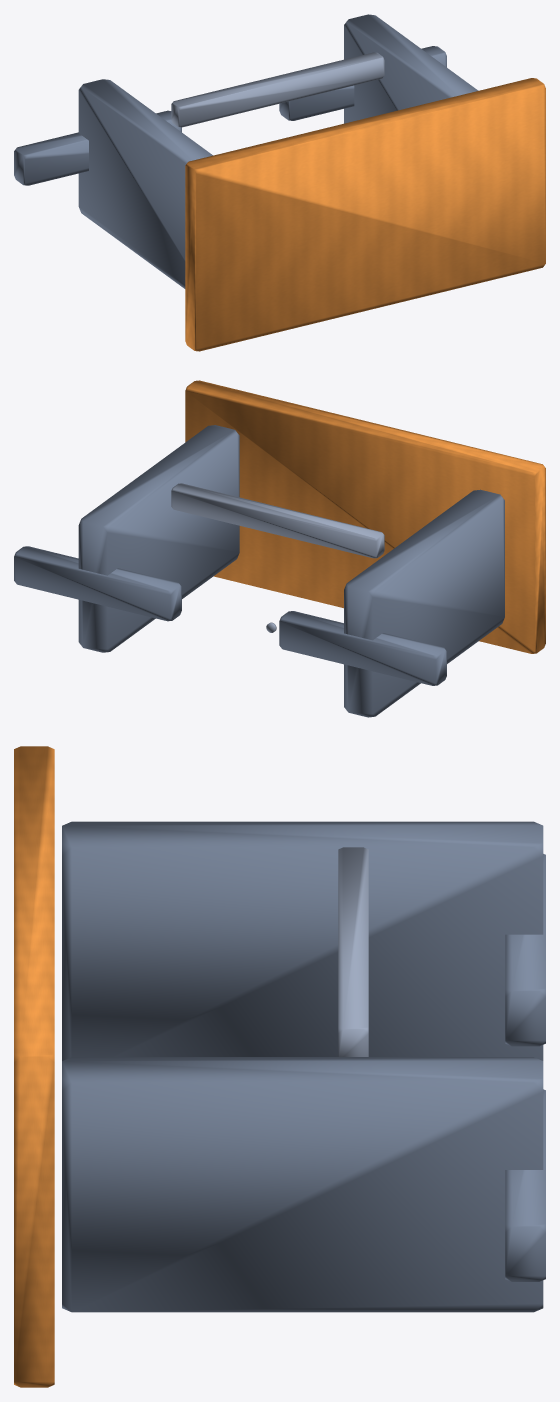
Rendered from 09_standing_desk.glb.
3 views of the same model, one above another, from view 1: azimuth 30°, elevation 25°; view 2: azimuth 150°, elevation 25°; view 3: azimuth 270°, elevation 25° (orthographic). The views are drawn at different scales.
Visible parts, largest first — view 1: top, column, column_1, crossbar, foot, foot_1; view 2: top, column, column_1, foot_1, foot, crossbar; view 3: column_1, column, top, crossbar, foot, foot_1.
Part boxes in pixels (x1,y1,x2,y2): top: (185,78,545,351); column: (78,79,212,288); column_1: (344,14,478,123); crossbar: (171,52,384,127); foot: (14,110,181,185); foot_1: (279,46,446,120); top: (185,380,545,653); column: (344,489,504,717); column_1: (78,425,239,652); foot_1: (14,546,181,621); foot: (279,611,446,685); crossbar: (171,483,384,558); column_1: (62,1057,543,1312); column: (62,821,543,1060); top: (14,746,54,1387); crossbar: (338,847,368,1056); foot: (505,854,545,1046); foot_1: (505,1089,545,1281).
Size of the model in its own units: 1.75 by 0.748 by 1.05.
4 materials, 1 textured.
